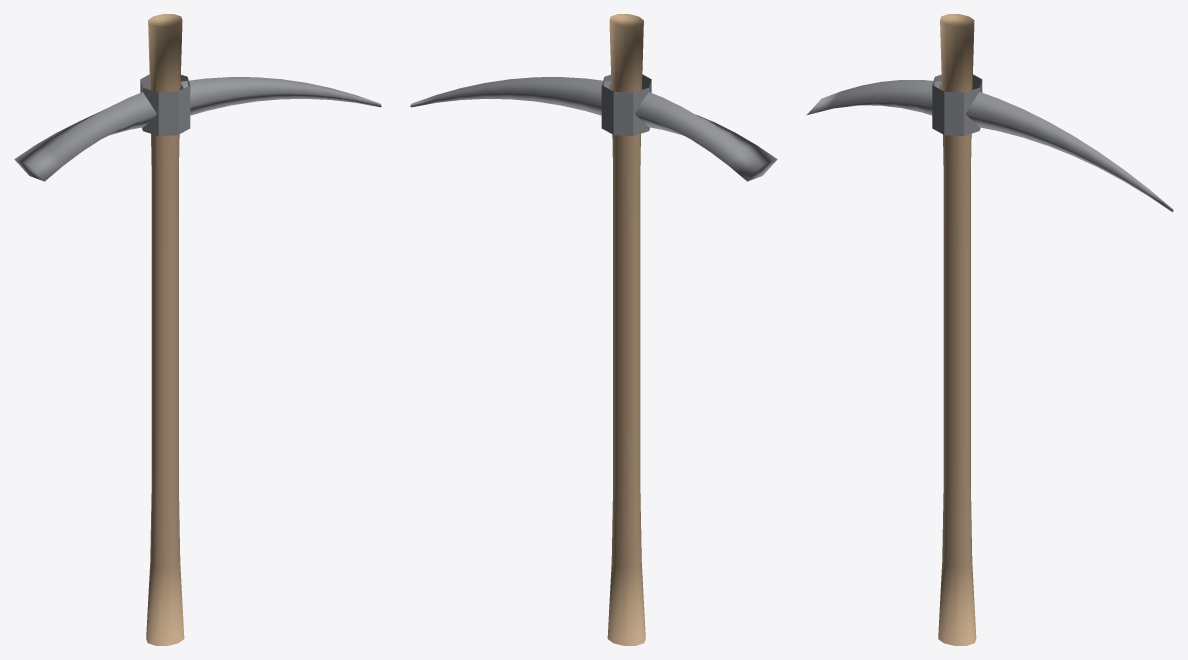
3 renders of one model, left to right at view 1: azimuth 30°, elevation 25°; view 2: azimuth 150°, elevation 25°; view 3: azimuth 330°, elevation 25°, orthographic.
Visible parts, largest first — view 1: Pickaxe; view 2: Pickaxe; view 3: Pickaxe.
Part boxes in pixels (x1,y1,x2,y2): Pickaxe: [14, 14, 381, 645]; Pickaxe: [410, 14, 777, 645]; Pickaxe: [806, 14, 1173, 645].
Bounding box in the file's own units: 0.44 × 0.74 × 0.066.
